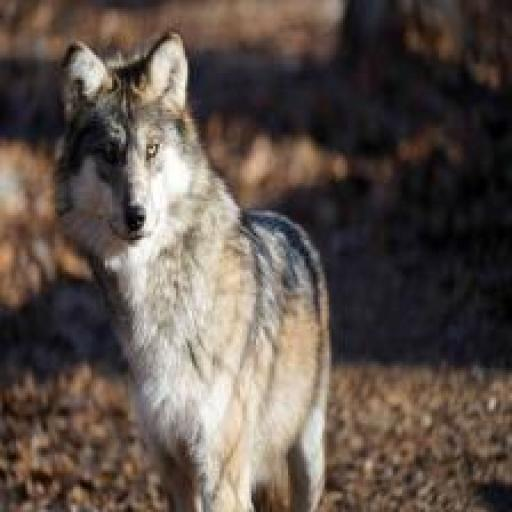wolf: (48, 23, 367, 512)
